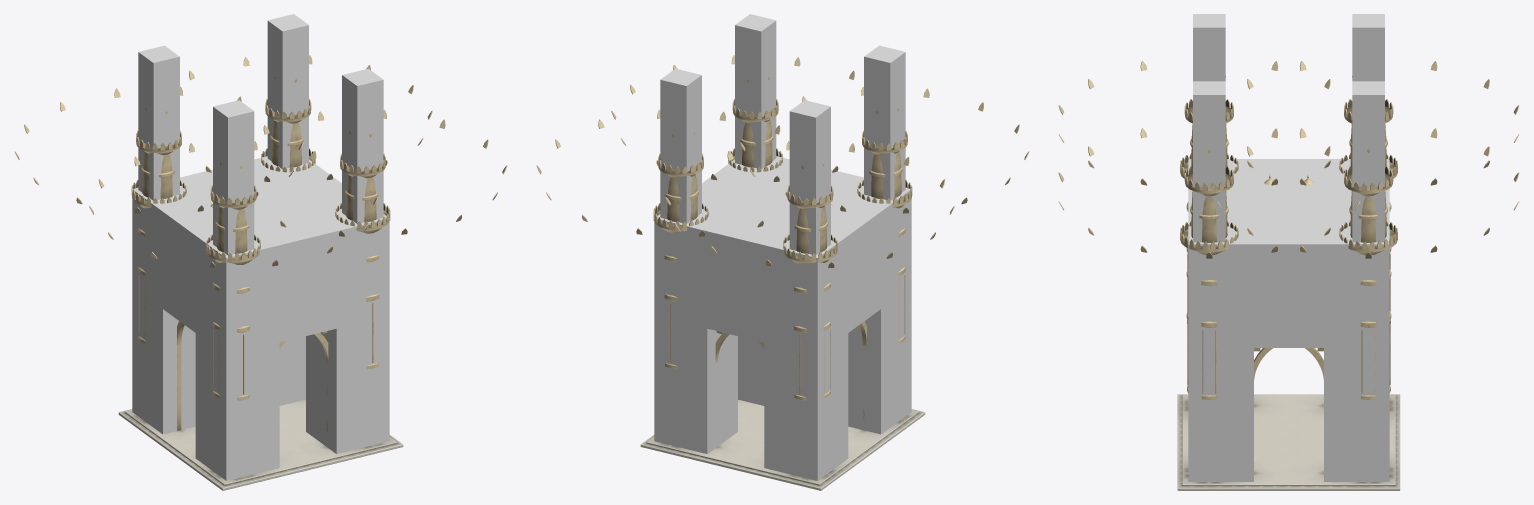
File: charminar_proto.glb
The picture shows the model from 3 angles, left to right: view 1: azimuth 30°, elevation 25°; view 2: azimuth 150°, elevation 25°; view 3: azimuth 270°, elevation 25°; orthographic projection. The views are drawn at different scales.
Visible parts, largest first — view 1: COL_charminar, charminar_body, charminar_detail; view 2: COL_charminar, charminar_body, charminar_detail; view 3: COL_charminar, charminar_detail, charminar_body.
Boxes of the visible parts, x1,y1,x2,y2 form: COL_charminar: [132, 14, 389, 480]; charminar_body: [14, 55, 507, 478]; charminar_detail: [118, 399, 403, 490]; COL_charminar: [654, 14, 911, 480]; charminar_body: [536, 55, 1029, 478]; charminar_detail: [640, 399, 925, 490]; COL_charminar: [1188, 14, 1389, 481]; charminar_detail: [1177, 394, 1400, 490]; charminar_body: [1058, 61, 1519, 471].
Bounding box in the file's own units: 147 × 135 × 145.
4 materials, 4 textured.
